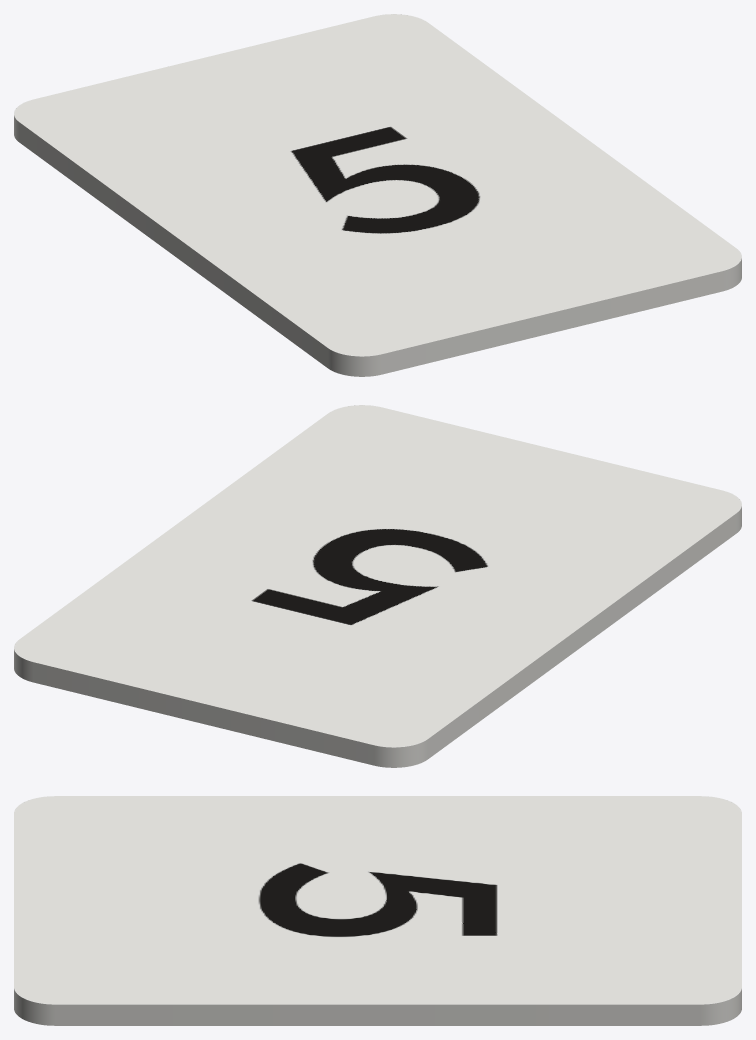
File: white_5.glb
The picture shows the model from 3 angles, top to bottom: view 1: azimuth 30°, elevation 25°; view 2: azimuth 150°, elevation 25°; view 3: azimuth 270°, elevation 25°; orthographic projection. The views are drawn at different scales.
Visible parts, largest first — view 1: white_5; view 2: white_5; view 3: white_5.
Boxes of the visible parts, x1=… form: white_5: x1=14, y1=14, x2=741, y2=376; white_5: x1=14, y1=405, x2=741, y2=767; white_5: x1=14, y1=796, x2=741, y2=1025.
Bounding box in the file's own units: 0.042 × 0.002 × 0.062.
2 materials, 1 textured.
